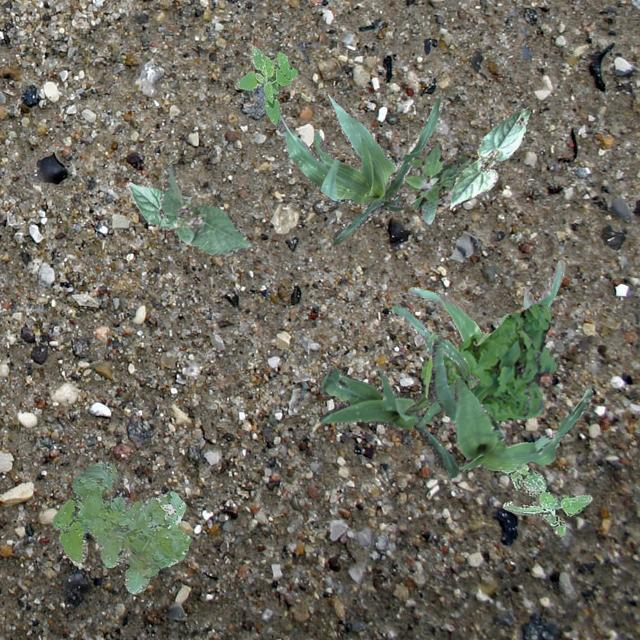crop: (274, 95, 442, 243), (429, 339, 592, 471), (390, 258, 564, 356), (318, 368, 458, 477), (157, 162, 250, 256), (448, 106, 530, 210), (408, 321, 478, 426), (124, 182, 190, 228)
weed: (50, 460, 190, 592), (418, 302, 556, 420), (500, 462, 590, 536), (404, 144, 476, 222), (234, 44, 296, 124)
